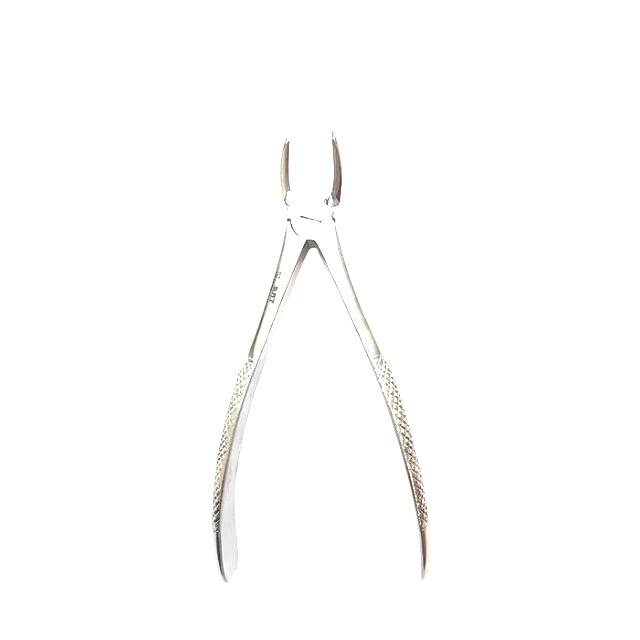forceps: (213, 134, 430, 586)
